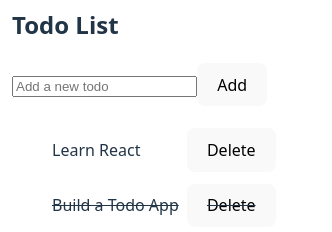
Scenario: deletes a todo
Step 1. Click the button with test id "delete-btn-1" → (231, 150), box [187, 128, 276, 172]
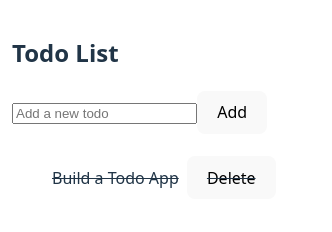
Check: the text "Learn React" is gone
